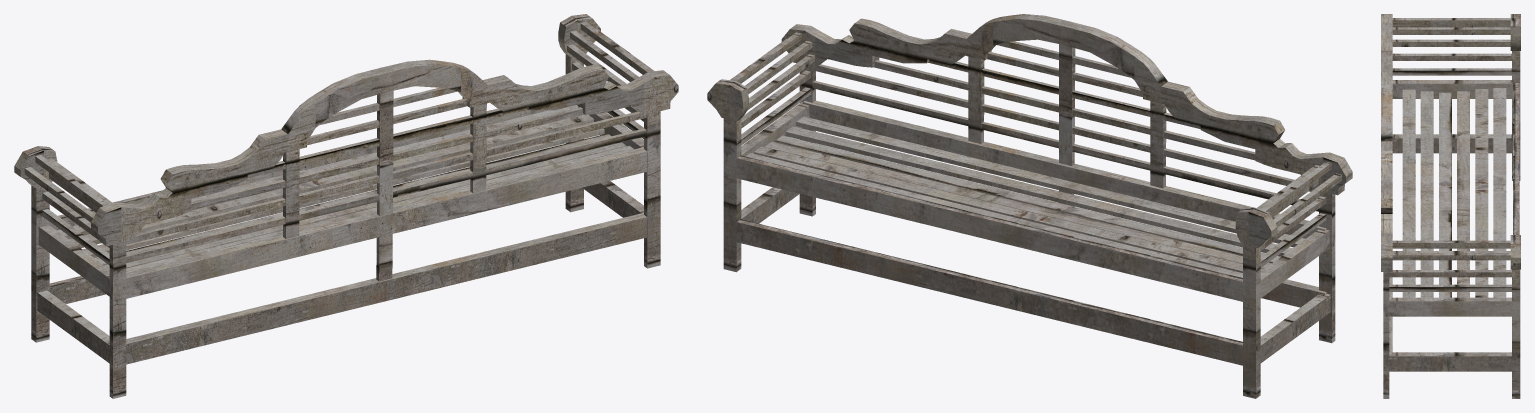
Rendered from bench.fbx.
3 renders of one model, left to right at view 1: azimuth 30°, elevation 25°; view 2: azimuth 150°, elevation 25°; view 3: azimuth 270°, elevation 25°, orthographic. The views are drawn at different scales.
Parts seen in each view (by area): view 1: Plane.001; view 2: Plane.001; view 3: Plane.001.
Part boxes in pixels (left/top/right/bottom): Plane.001: left=14, top=14, right=678, bottom=398; Plane.001: left=707, top=14, right=1352, bottom=398; Plane.001: left=1381, top=14, right=1520, bottom=398.
Bounding box in the file's own units: 225 × 96.37 × 56.06.
1 material, 1 textured.
